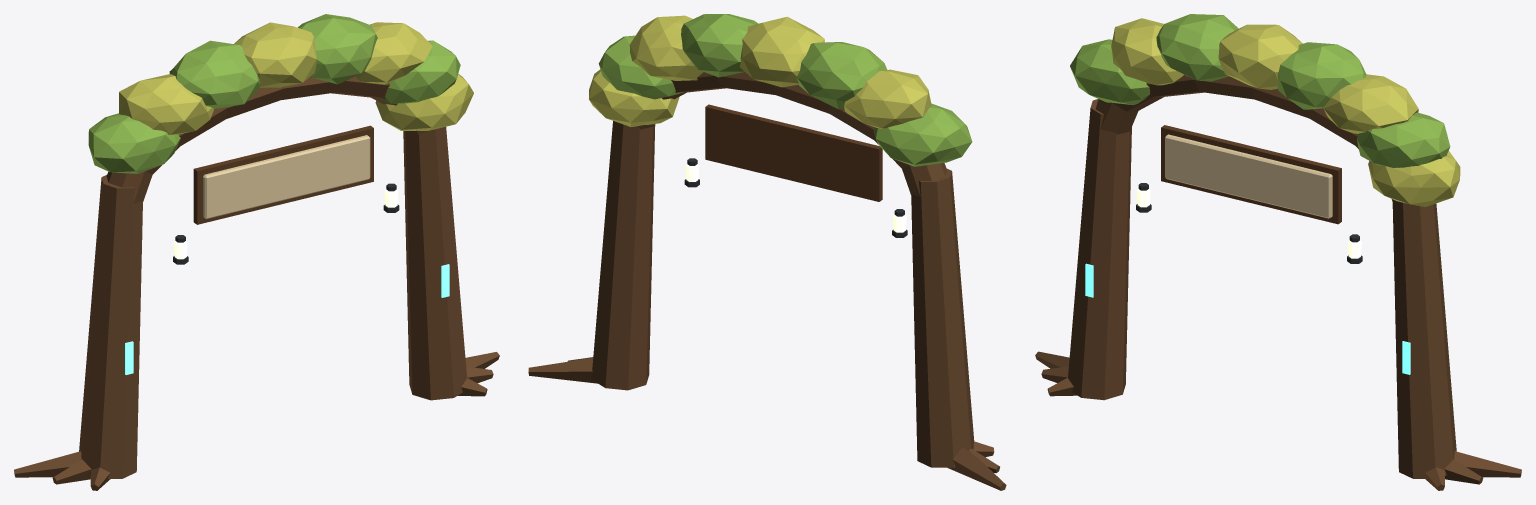
File: for_gate_arch_v01.glb
The picture shows the model from 3 angles, left to right: view 1: azimuth 30°, elevation 25°; view 2: azimuth 150°, elevation 25°; view 3: azimuth 330°, elevation 25°; orthographic projection.
Visible parts, largest first — view 1: gate_arch; view 2: gate_arch; view 3: gate_arch.
Part boxes in pixels (x1,y1,x2,y2): gate_arch: (14, 14, 499, 490); gate_arch: (528, 14, 1006, 490); gate_arch: (1035, 14, 1521, 490).
Bounding box in the file's own units: 6.44 × 5.11 × 1.01.
